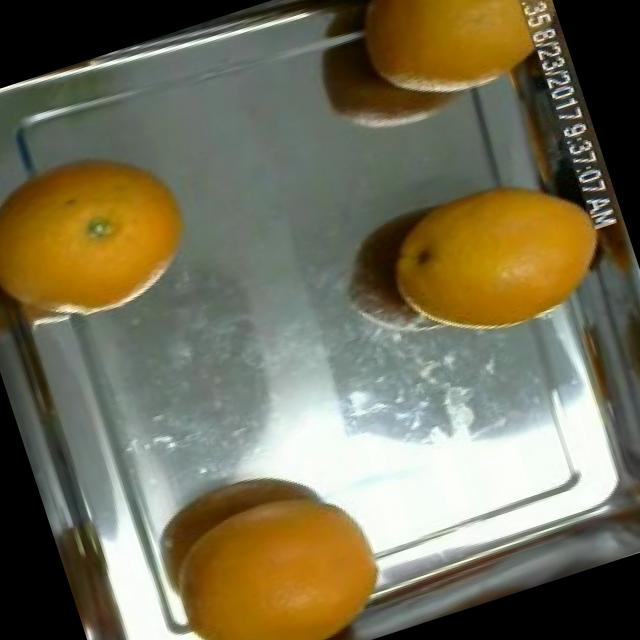Fruit: (388, 146, 634, 364), (0, 114, 219, 344), (313, 0, 569, 136)
